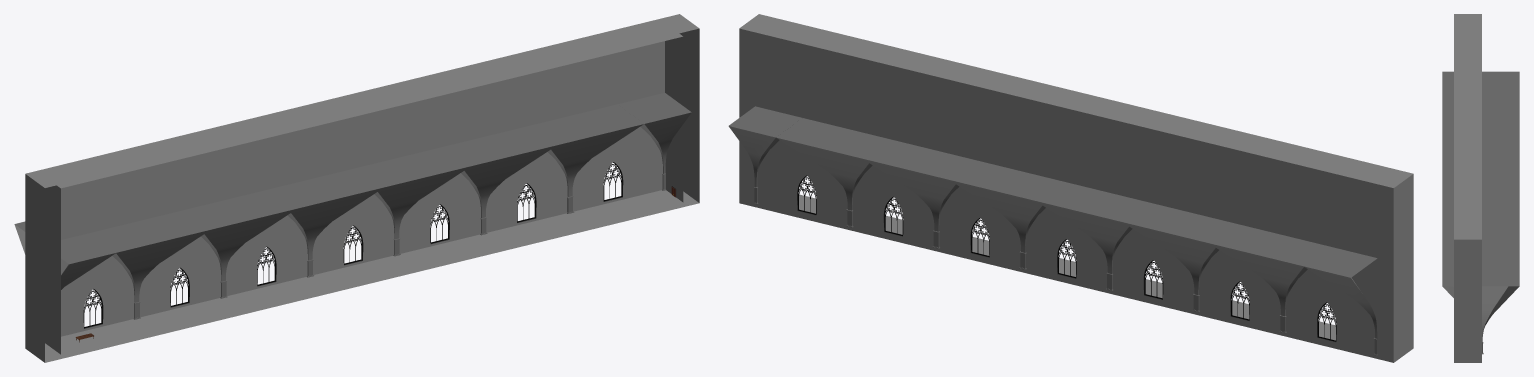
Rendered from HallwayModel.glb.
3 views of the same model, side by side, from view 1: azimuth 30°, elevation 25°; view 2: azimuth 150°, elevation 25°; view 3: azimuth 270°, elevation 25° (orthographic). The views are drawn at different scales.
Visible parts, largest first — view 1: Cube, Cube.001, WindowSill; view 2: Cube, Cube.001, WindowSill; view 3: Cube.001, Cube.
Boxes of the visible parts, x1=… form: Cube: x1=25, y1=14, x2=699, y2=362; Cube.001: x1=14, y1=93, x2=691, y2=319; WindowSill: x1=83, y1=162, x2=622, y2=328; Cube: x1=739, y1=14, x2=1413, y2=362; Cube.001: x1=728, y1=106, x2=1377, y2=355; WindowSill: x1=797, y1=175, x2=1336, y2=341; Cube.001: x1=1442, y1=71, x2=1519, y2=354; Cube: x1=1454, y1=14, x2=1481, y2=362.
Size of the model in its own units: 206 by 52.57 by 29.95.
7 materials, 1 textured.
